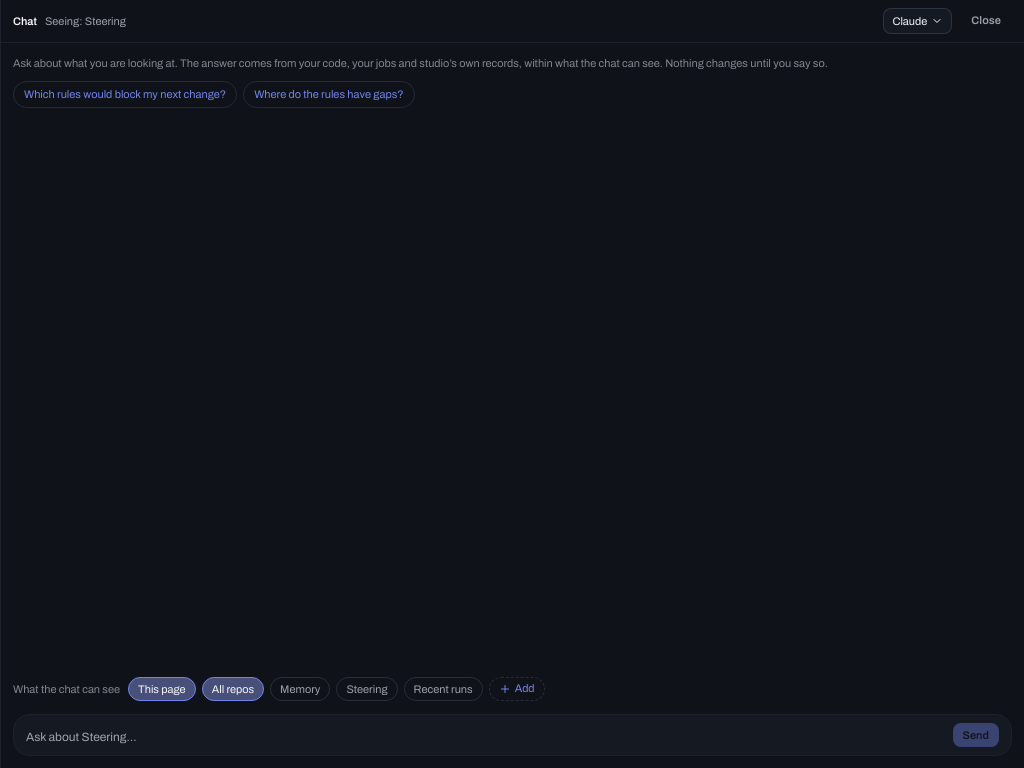
the chat-launch wire — the GroupChat seat machinery, one warm session › a second send REUSES the warm session and the pack rides the FIRST message only
The image size is (1024, 768).
Type "first question" into the text box with test id "assist-input" at (485, 737), box [26, 727, 944, 747]
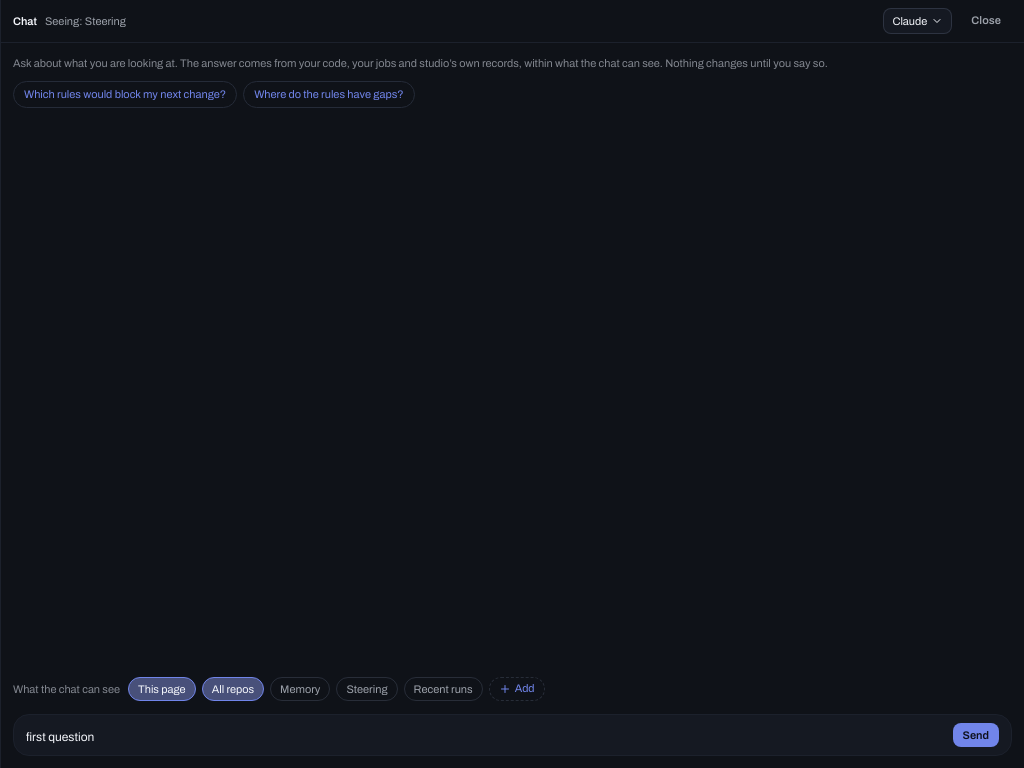
Click the button with test id "assist-send" at (976, 735), box [952, 722, 999, 747]
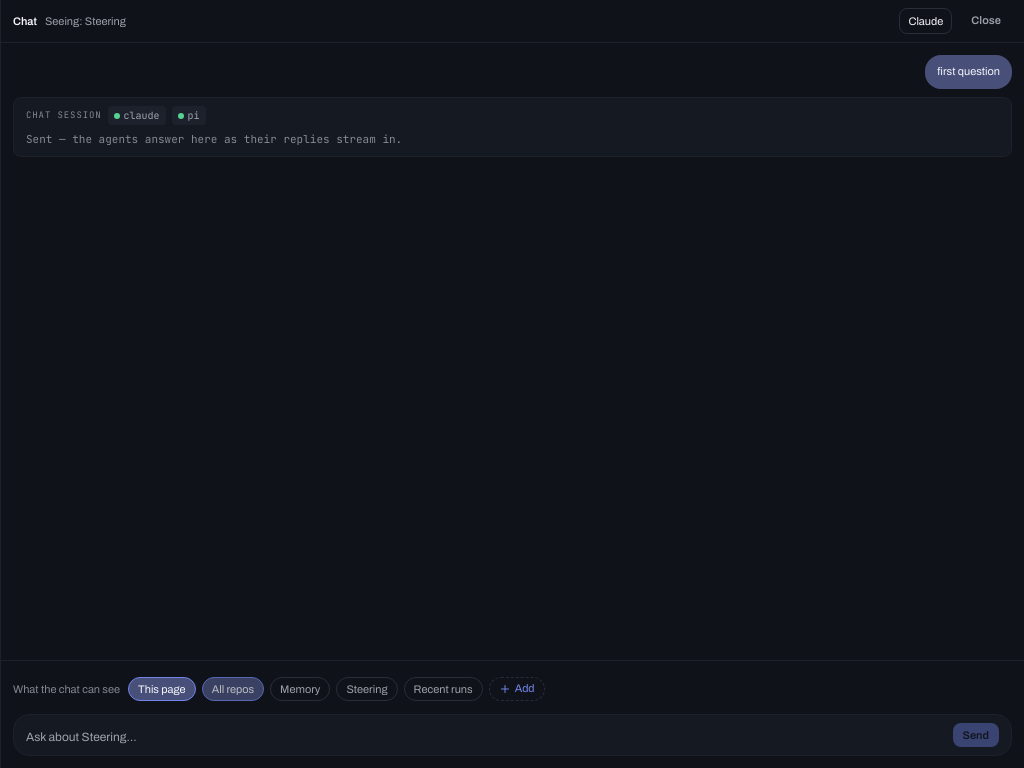
Type "follow-up" into the text box with test id "assist-input" at (485, 737), box [26, 727, 944, 747]
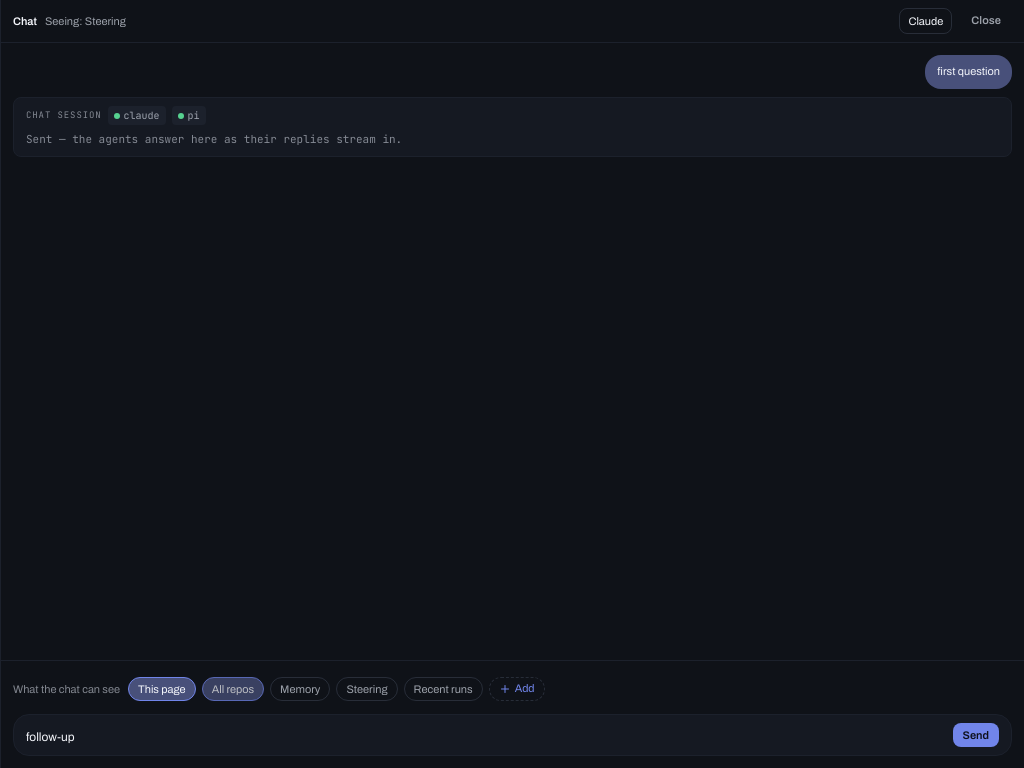
Click the button with test id "assist-send" at (976, 735), box [952, 722, 999, 747]
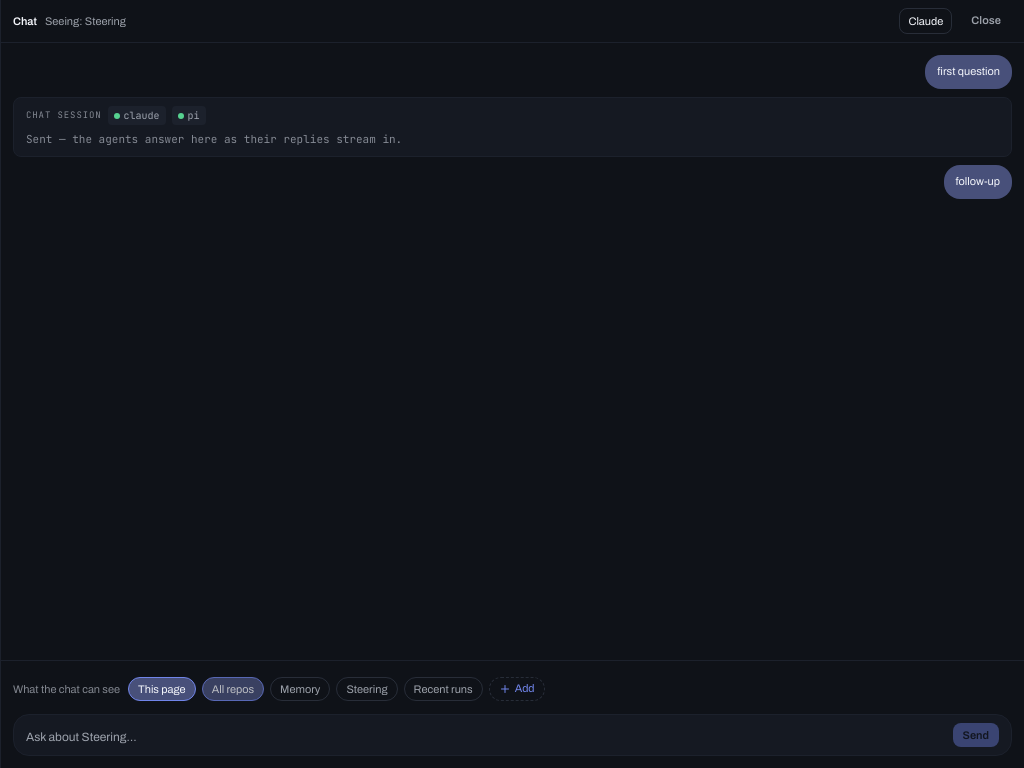
Now the number of elements with test id "assist-chat" is 1, box [13, 97, 1012, 157]
Now the text "follow-up" is shown, box [956, 173, 1000, 190]
